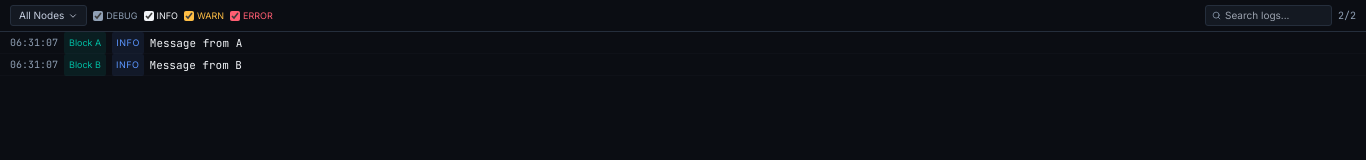
Test case: LogViewer › filters logs by node selection
The width and height of the screenshot is (1366, 160).
Expected: the text "Message from A" is shown, [150,36,242,50]
Expected: the text "Message from B" is shown, [150,58,242,72]
Open dropdown and select Block A
Click the button "All Nodes".
click(49, 16)  # box [10,5,87,26]
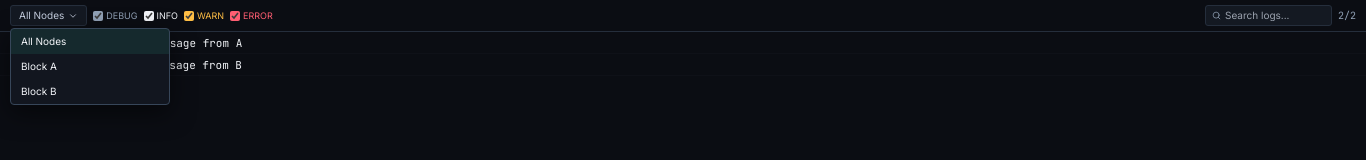
Click the button "Block A".
click(90, 66)  # box [11,54,169,79]
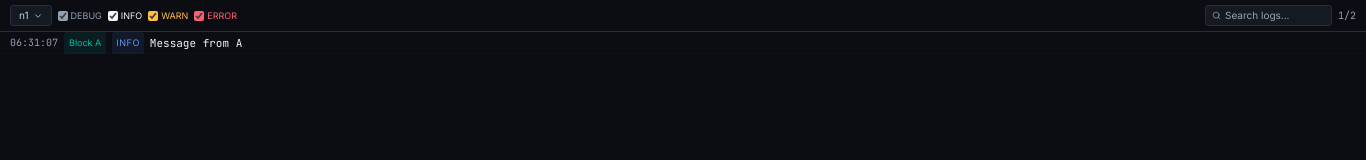
Expected: the text "Message from A" is shown, [150,36,242,50]
Expected: the text "Message from B" is gone
